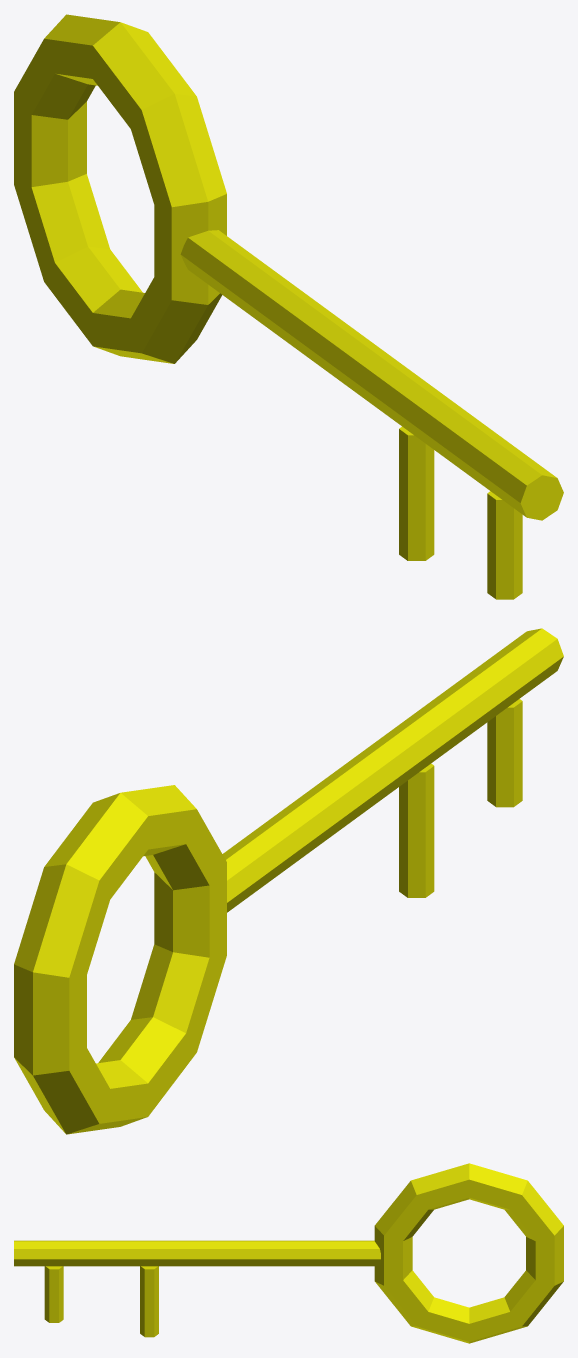
Rendered from key.fbx.
The picture shows the model from 3 angles, top to bottom: view 1: azimuth 30°, elevation 25°; view 2: azimuth 150°, elevation 25°; view 3: azimuth 270°, elevation 25°; orthographic projection. The views are drawn at different scales.
Parts seen in each view (by area): view 1: Torus; view 2: Torus; view 3: Torus.
Boxes of the visible parts, bbox=[...] form: Torus: bbox=[14, 14, 563, 599]; Torus: bbox=[14, 628, 563, 1134]; Torus: bbox=[14, 1163, 563, 1343].
Bounding box in the file's own units: 43.3 × 250 × 691.
